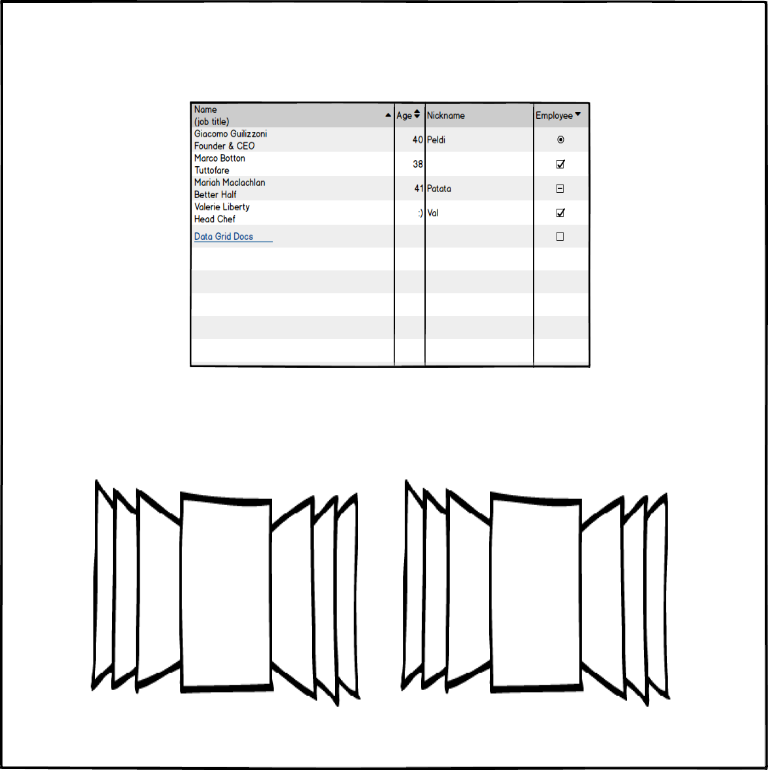slideshow: (77, 471, 369, 715), (389, 473, 685, 711)
table: (183, 93, 598, 374)
